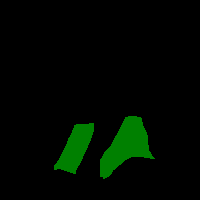mutande: (100, 115, 155, 179), (53, 122, 94, 174)
